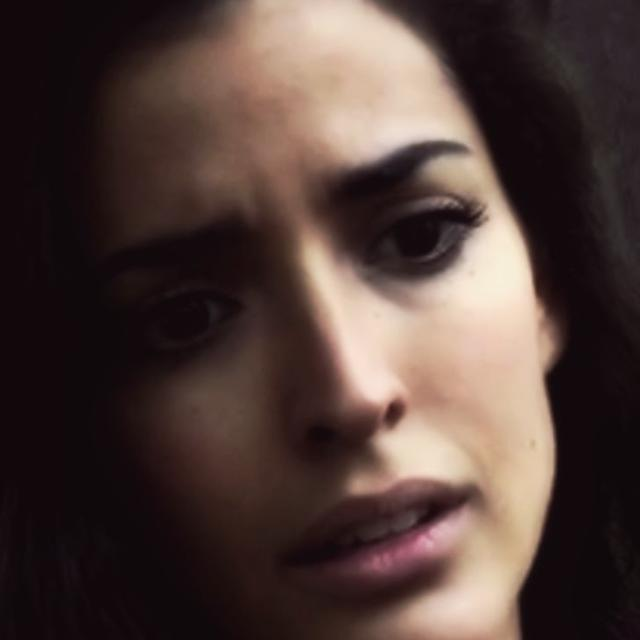Depress: (90, 0, 561, 639)
